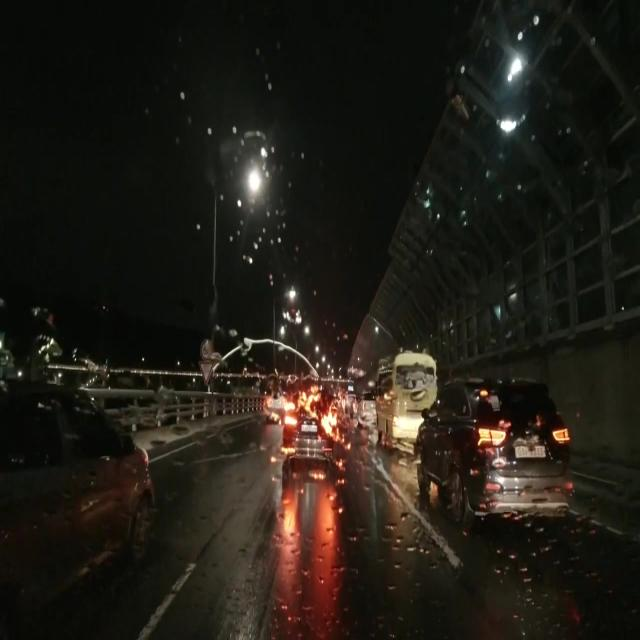Car: (0, 378, 149, 626), (421, 377, 572, 528), (283, 383, 330, 468), (260, 371, 281, 424), (355, 392, 372, 426)
